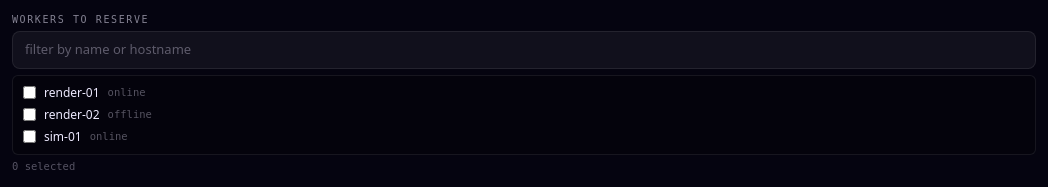
Scenario: the filter narrows the rendered set WITHOUT issuing a request
Expected: the checkbox labelled "render-01 online" is shown, [23, 86, 36, 99]
Type "sim" into the field named "Filter workers" at (524, 50), box [12, 31, 1036, 68]
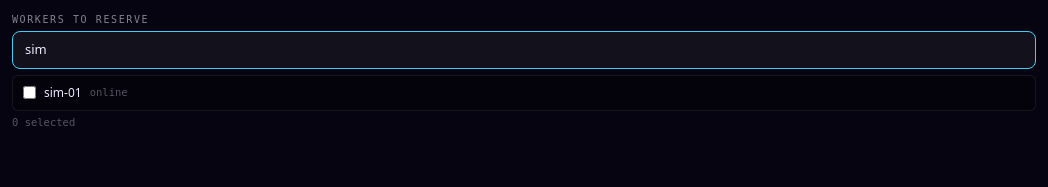
Result: the number of checkboxes is 1 at [23, 86, 36, 99]
Result: the text "render-01" is gone
